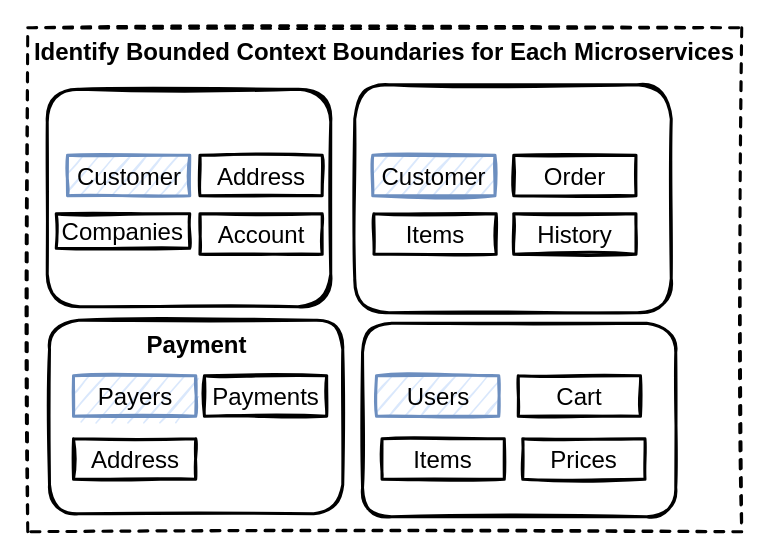
The diagram is 768 pixels wide and 558 high, and some of its shapes have lost their labels. The box of each missing label's shape, as (x1, y1, x2, y2) in pixels:
Customers: (45, 87, 332, 308)
Orders: (352, 82, 672, 314)
Shopping Cart: (360, 321, 676, 518)
